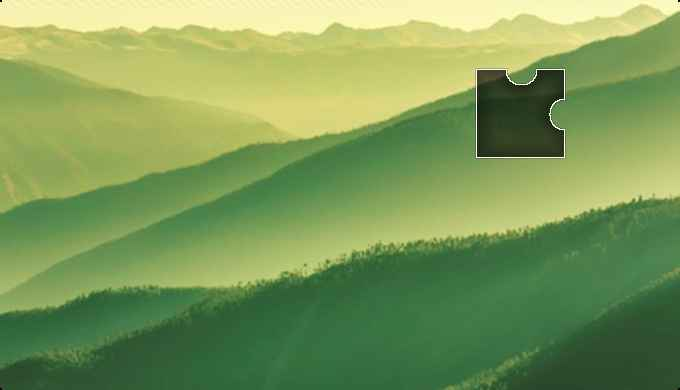gap: (475, 70, 565, 159)
